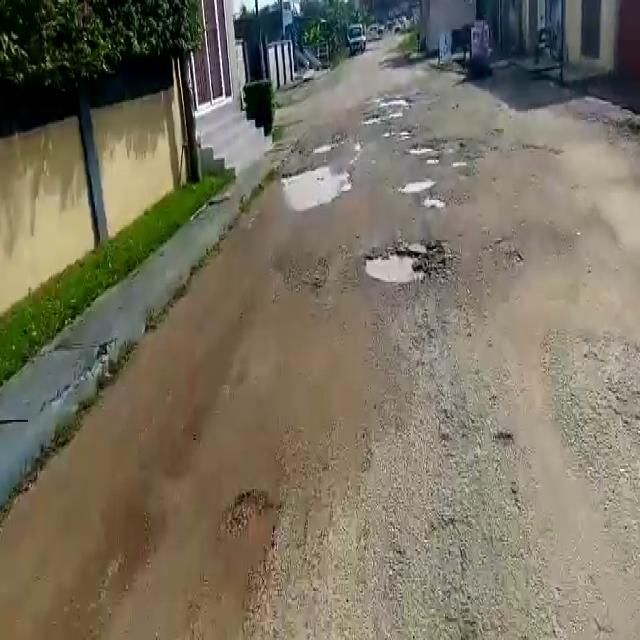Pothole: (278, 160, 350, 215), (362, 240, 441, 284), (231, 488, 280, 540), (400, 179, 434, 193), (422, 197, 447, 210)
